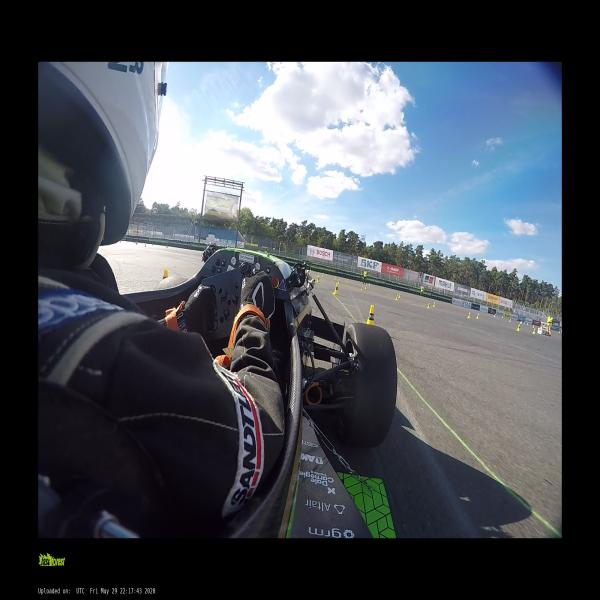yellow_cone: (367, 305, 374, 325), (332, 283, 339, 295), (163, 269, 168, 283), (316, 275, 320, 283), (394, 295, 399, 300), (516, 325, 520, 331), (467, 312, 471, 318), (432, 302, 436, 307), (360, 285, 364, 290), (396, 293, 401, 297), (476, 314, 479, 320), (337, 279, 340, 285), (532, 329, 535, 334), (427, 303, 430, 308), (364, 284, 366, 290), (508, 318, 511, 322), (494, 314, 496, 318), (334, 276, 336, 280), (346, 279, 348, 283), (369, 283, 370, 286)
